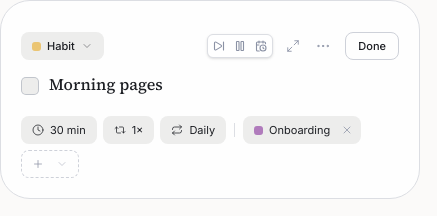
Test case: every membership comes back off, from the pill or the picker › clears a habit’s project from its pill, as it does a task’s
Click the button with test id "item-dialog-container-chip-clear". click: (349, 130)
box: [337, 116, 361, 144]
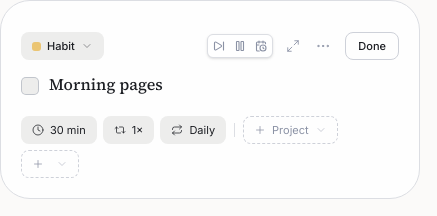
expect the button with test id "item-clearing-field" no longer shows "Onboarding": met
